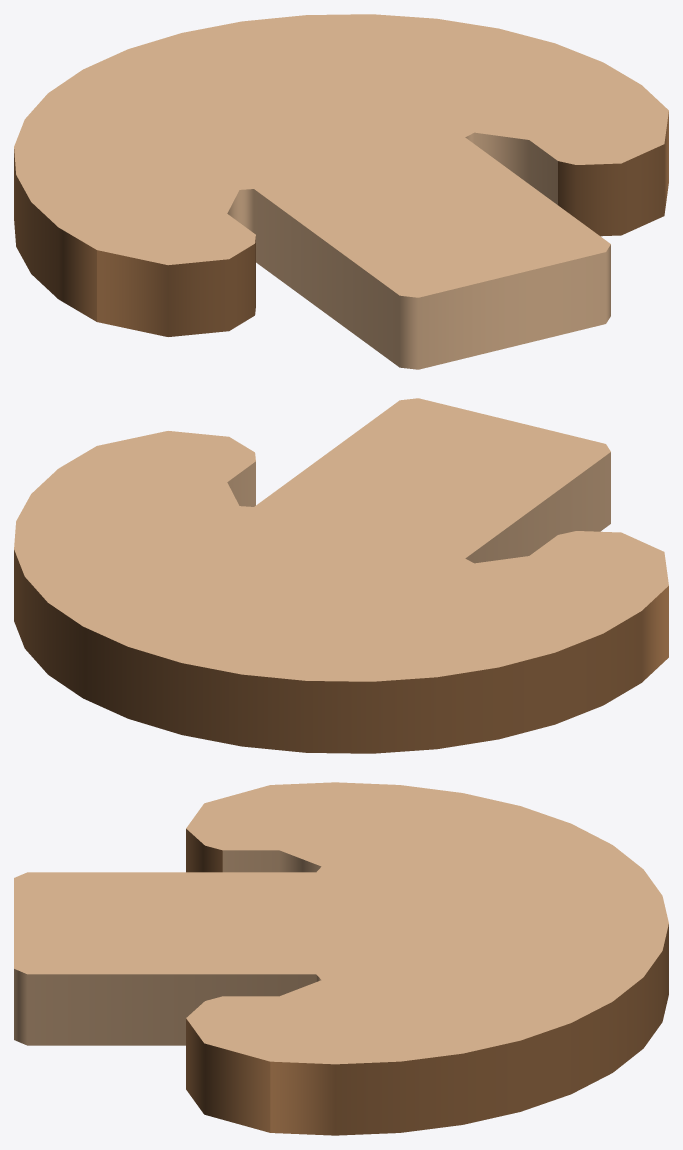
Rendered from mushroom.fbx.
3 renders of one model, top to bottom at view 1: azimuth 30°, elevation 25°; view 2: azimuth 150°, elevation 25°; view 3: azimuth 270°, elevation 25°, orthographic.
Parts seen in each view (by area): view 1: mushroom; view 2: mushroom; view 3: mushroom.
Part boxes in pixels (x1=…): mushroom: x1=14, y1=14, x2=668, y2=369; mushroom: x1=14, y1=398, x2=668, y2=753; mushroom: x1=14, y1=782, x2=668, y2=1135.
Size of the model in its own units: 200 by 23.58 by 196.
